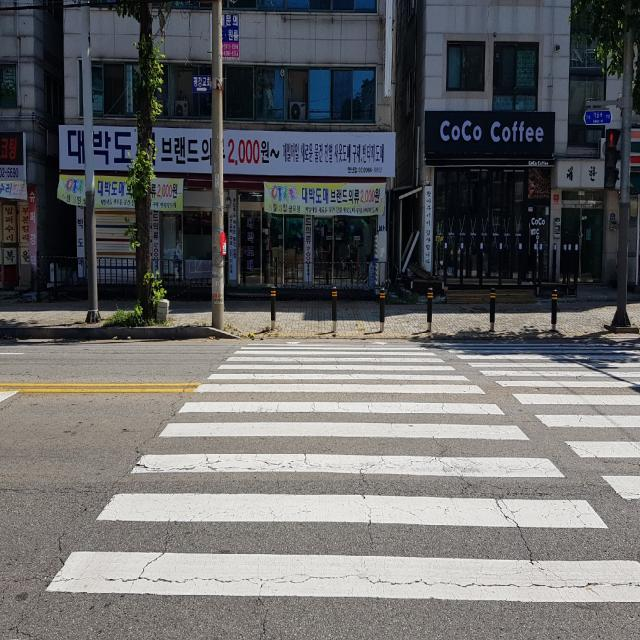빨간불: (606, 129, 618, 187)
횡단보도: (42, 340, 640, 606)
